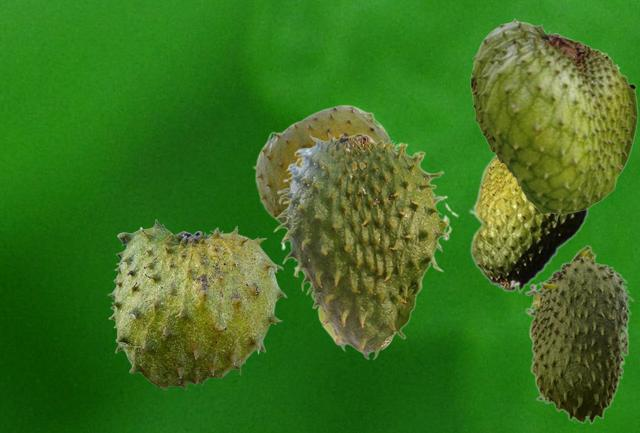guyabano: (273, 132, 458, 359), (470, 17, 637, 214), (107, 218, 286, 389), (525, 244, 633, 423), (252, 104, 390, 229), (468, 155, 588, 293)
